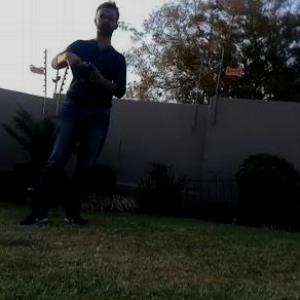follow: (13, 0, 136, 230)
